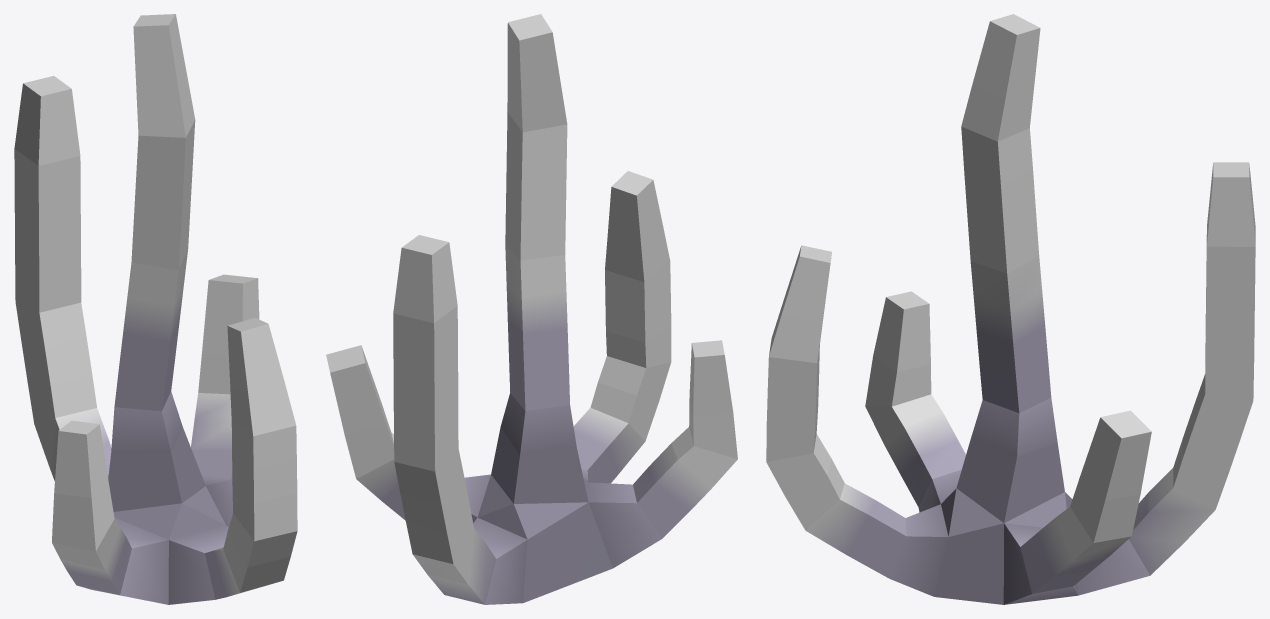
File: SM_SugarCactus.fbx
The picture shows the model from 3 angles, left to right: view 1: azimuth 30°, elevation 25°; view 2: azimuth 150°, elevation 25°; view 3: azimuth 270°, elevation 25°; orthographic projection. The views are drawn at different scales.
Visible parts, largest first — view 1: SugarCactus; view 2: SugarCactus; view 3: SugarCactus.
Boxes of the visible parts, box(x1,y1,x2,y2) form: SugarCactus: box(14, 14, 297, 604); SugarCactus: box(326, 14, 737, 604); SugarCactus: box(766, 14, 1255, 604).
Size of the model in its own units: 286 by 486 by 383.
